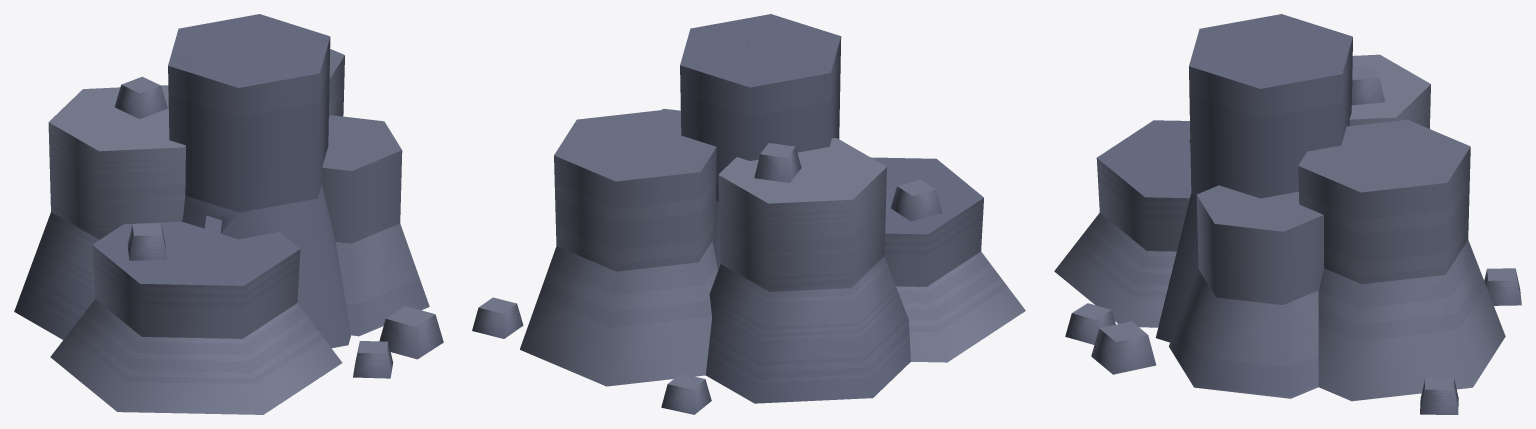
The model's file is rocks-c-open.glb.
3 renders of one model, left to right at view 1: azimuth 30°, elevation 25°; view 2: azimuth 150°, elevation 25°; view 3: azimuth 270°, elevation 25°, orthographic.
Visible parts, largest first — view 1: rocks-c; view 2: rocks-c; view 3: rocks-c.
Boxes of the visible parts, bbox=[...] form: rocks-c: bbox=[14, 14, 443, 414]; rocks-c: bbox=[472, 14, 1025, 414]; rocks-c: bbox=[1054, 14, 1521, 414].
Bounding box in the file's own units: 3.64 × 2.3 × 3.67.
1 material, 1 textured.
